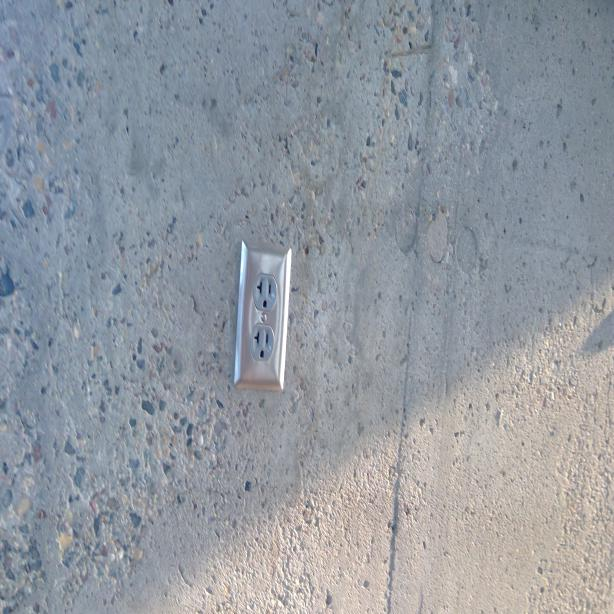typeb: (254, 273, 277, 315), (249, 328, 275, 361)
